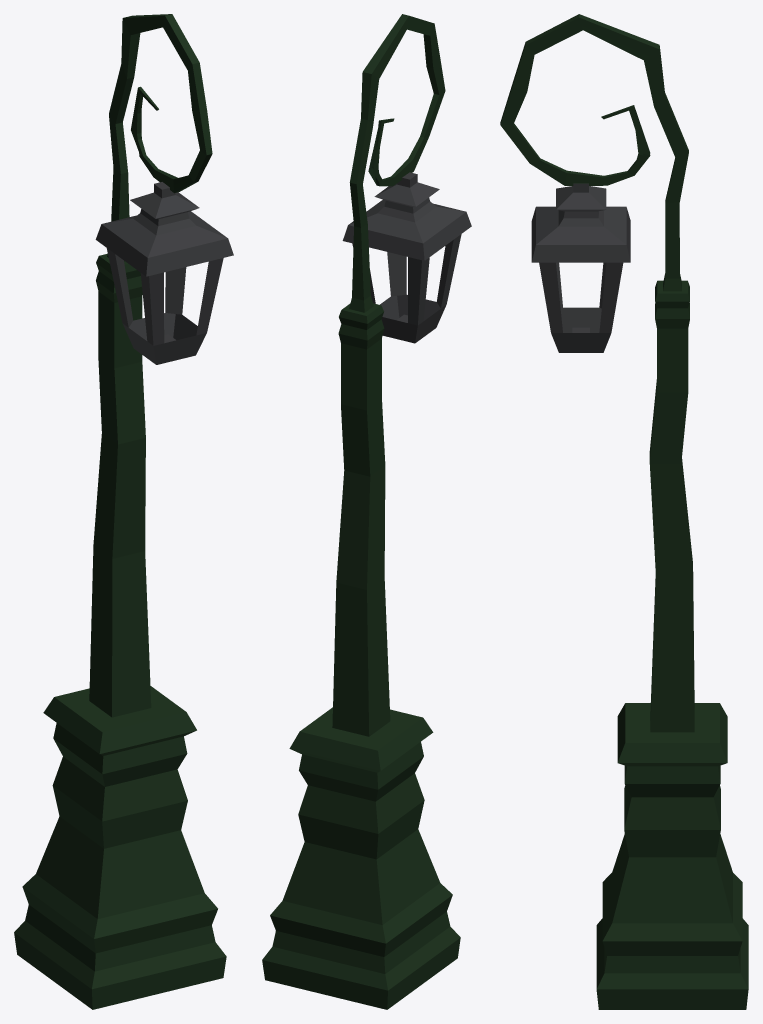
File: Lampadaire.fbx
3 views of the same model, side by side, from view 1: azimuth 30°, elevation 25°; view 2: azimuth 150°, elevation 25°; view 3: azimuth 270°, elevation 25° (orthographic). The views are drawn at different scales.
Visible parts, largest first — view 1: Cube; view 2: Cube; view 3: Cube.
Part boxes in pixels (<box>): Cube: <box>14,14,233,1009</box>; Cube: <box>262,14,471,1009</box>; Cube: <box>500,14,748,1009</box>.
Size of the model in its own units: 97.98 by 685 by 160.
